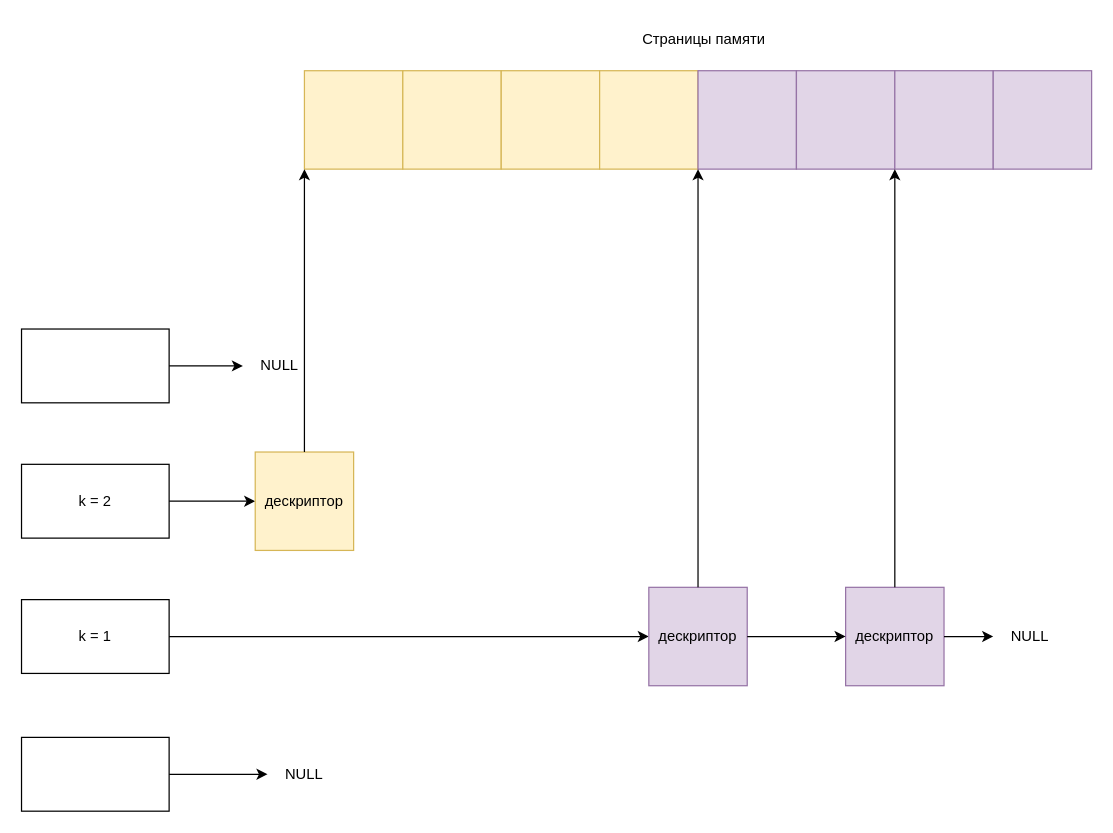
Image size: 1113x833. Some labels were removed from this diagram. The shapes that lost their labels are listed below. From the top down, each one's centre as x and y in pixels, then its label:
the point at 94,365: k = 3
the point at 94,773: k = 0
